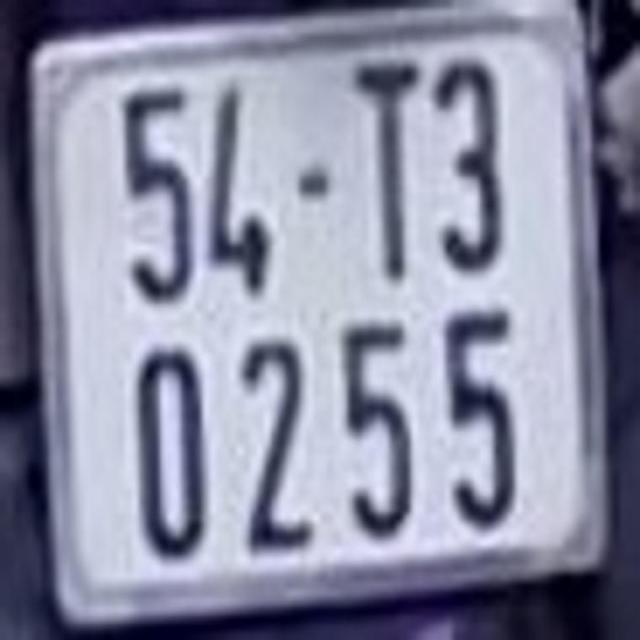0: (132, 334, 206, 560)
2: (235, 332, 312, 558)
3: (428, 48, 504, 277)
4: (197, 75, 275, 303)
5: (444, 300, 526, 535), (336, 312, 418, 543), (117, 83, 197, 300)
T: (351, 50, 428, 281)
